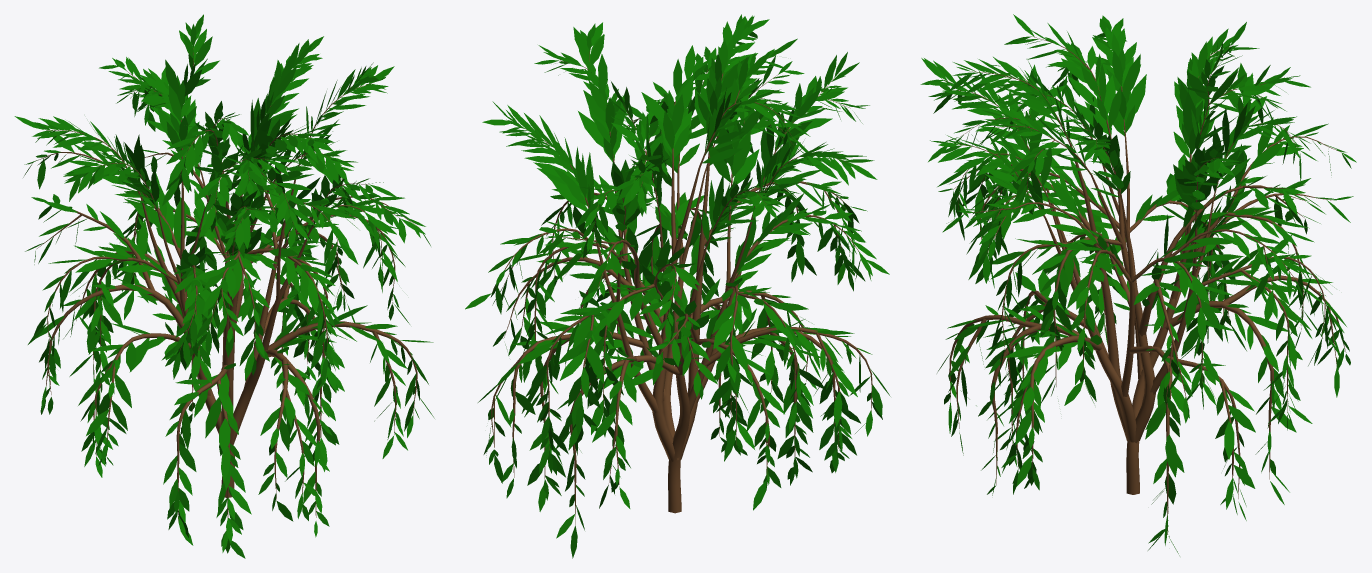
The model's file is Tree3.fbx.
The picture shows the model from 3 angles, left to right: view 1: azimuth 30°, elevation 25°; view 2: azimuth 150°, elevation 25°; view 3: azimuth 270°, elevation 25°; orthographic projection. The views are drawn at different scales.
Parts seen in each view (by area): view 1: leaves, tree; view 2: leaves, tree; view 3: leaves, tree.
Part boxes in pixels (bbox=[...]): leaves: bbox=[14, 14, 434, 558]; tree: bbox=[36, 48, 417, 520]; leaves: bbox=[465, 14, 890, 558]; tree: bbox=[491, 51, 872, 524]; leaves: bbox=[920, 14, 1356, 555]; tree: bbox=[943, 36, 1346, 534].
Size of the model in its own units: 519 by 677 by 568.
